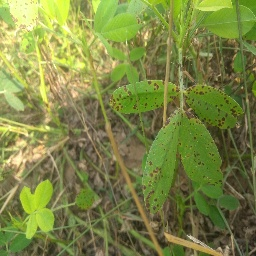GroundNut_Leaf: (141, 116, 184, 209), (185, 118, 221, 189), (109, 78, 177, 113), (203, 5, 255, 39), (187, 86, 233, 117), (103, 14, 142, 42), (37, 1, 71, 26), (35, 209, 56, 232), (208, 205, 227, 228), (35, 180, 51, 206), (21, 185, 34, 213), (78, 190, 94, 209)
